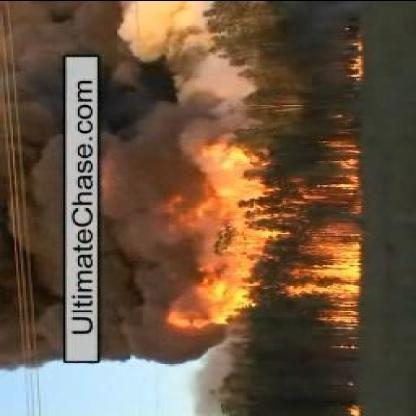-: (106, 150, 186, 361), (11, 90, 57, 372), (110, 20, 206, 142)
foggia-v2-map80-epoch100 - v1 4323: (288, 244, 362, 294)
